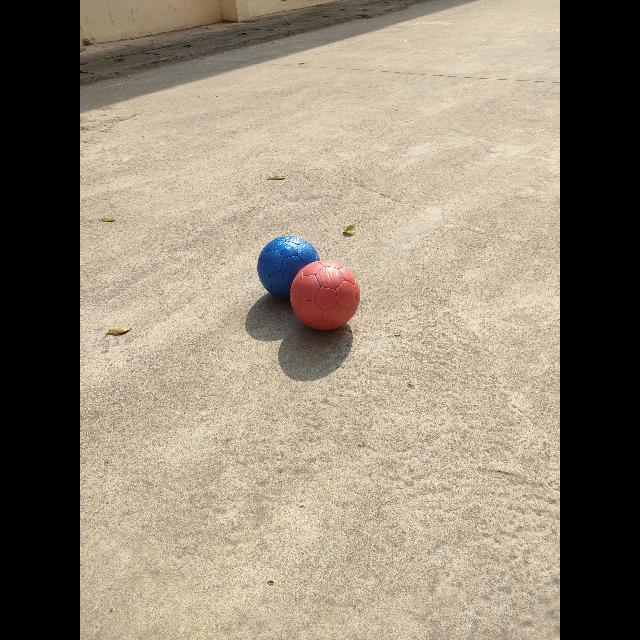B: (257, 236, 320, 299)
R: (290, 260, 360, 331)
